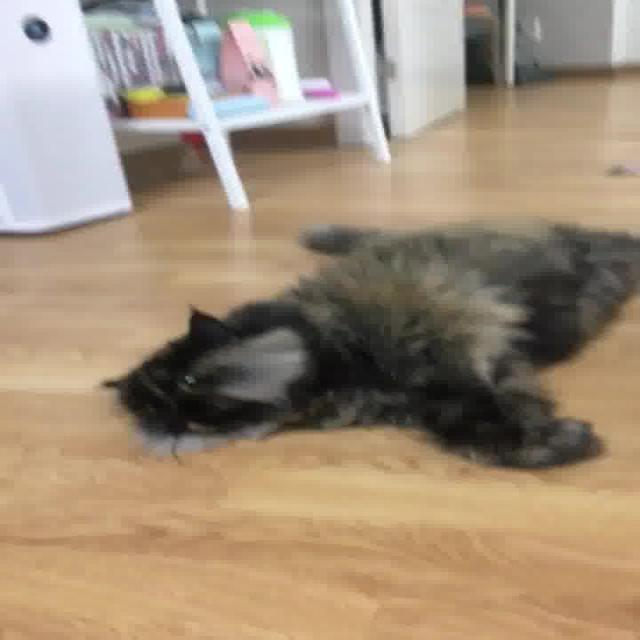cat: (102, 216, 640, 472)
